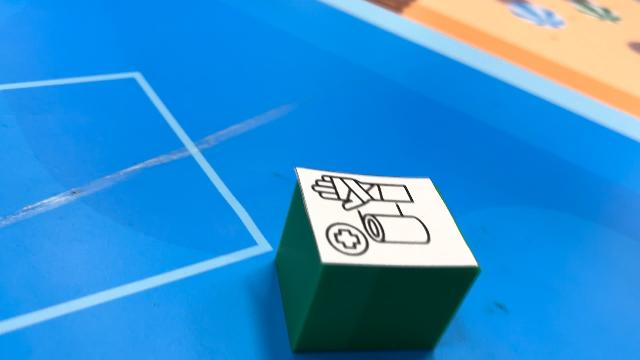bandage: (274, 166, 482, 354)
